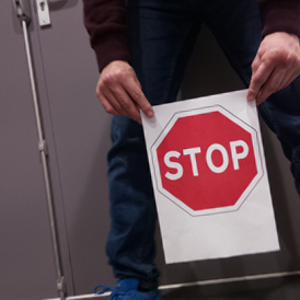stop: (154, 108, 262, 214)
